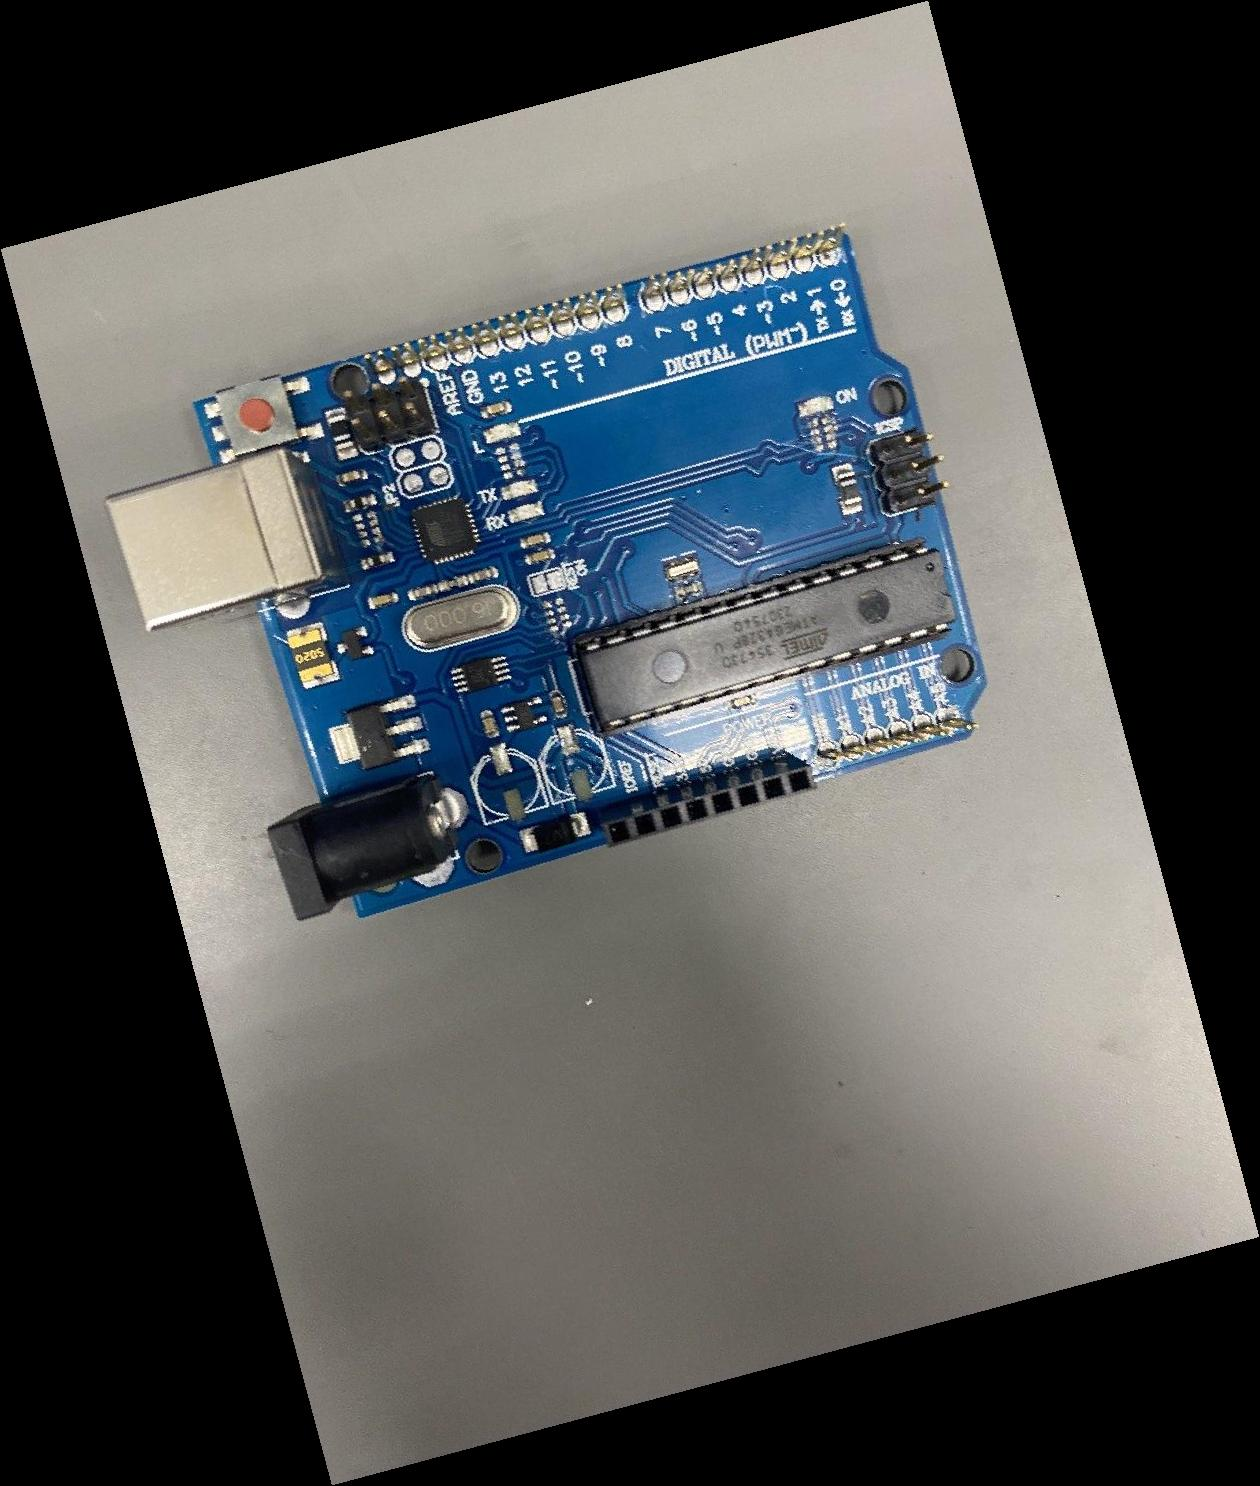ATmega328 chip: (574, 535, 956, 738)
Arduino board: (103, 224, 988, 922)
USB: (103, 447, 349, 632)
pins: (599, 750, 816, 849)
